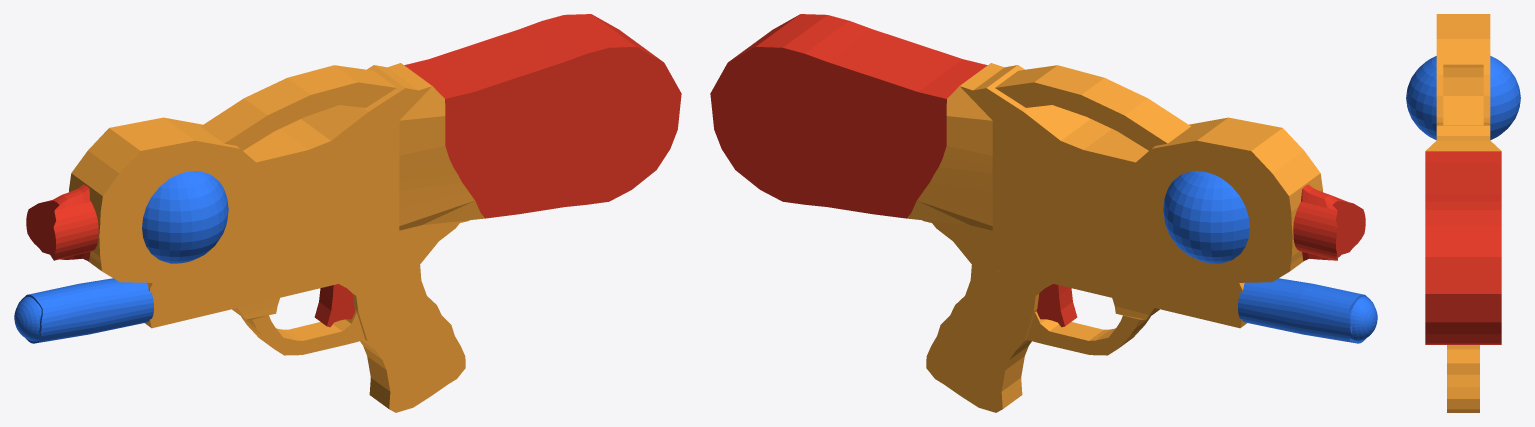
Rendered from watergun.fbx.
The picture shows the model from 3 angles, left to right: view 1: azimuth 30°, elevation 25°; view 2: azimuth 150°, elevation 25°; view 3: azimuth 270°, elevation 25°; orthographic projection. The views are drawn at different scales.
Parts seen in each view (by area): view 1: Cube; view 2: Cube; view 3: Cube.
Boxes of the visible parts, <box> form: Cube: <box>14,14,681,412</box>; Cube: <box>710,14,1377,412</box>; Cube: <box>1406,14,1520,412</box>.
Size of the model in its own units: 465 by 237 by 84.6.
